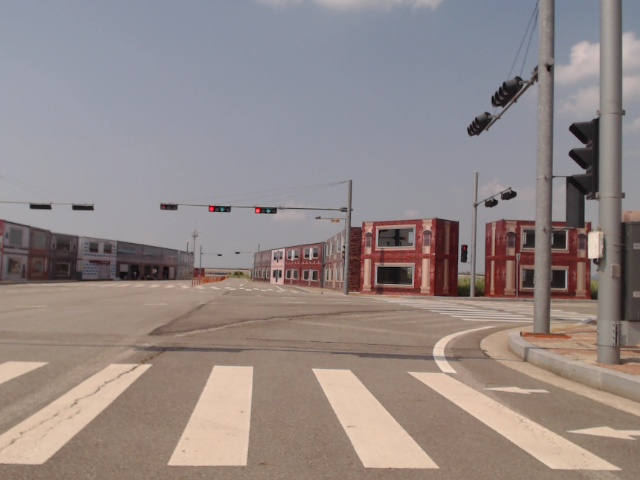left_green_4: (255, 207, 276, 214), (209, 206, 231, 212)
